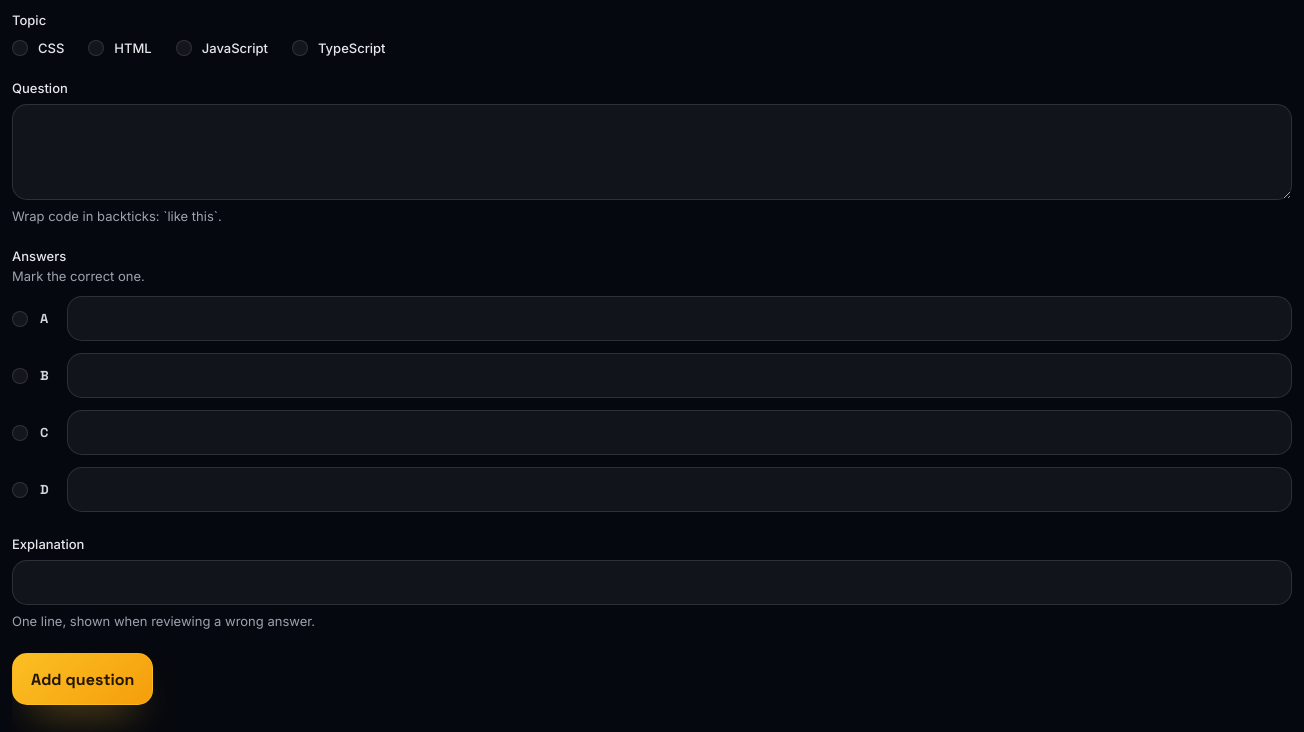
Test: QuestionForm › moves focus to the topic picker when only the topic is missing
What coordinates should you click on to do the following:
click the button "Add question"
I would click on:
 (83, 679)
Its box is left=12, top=653, right=153, bottom=705.
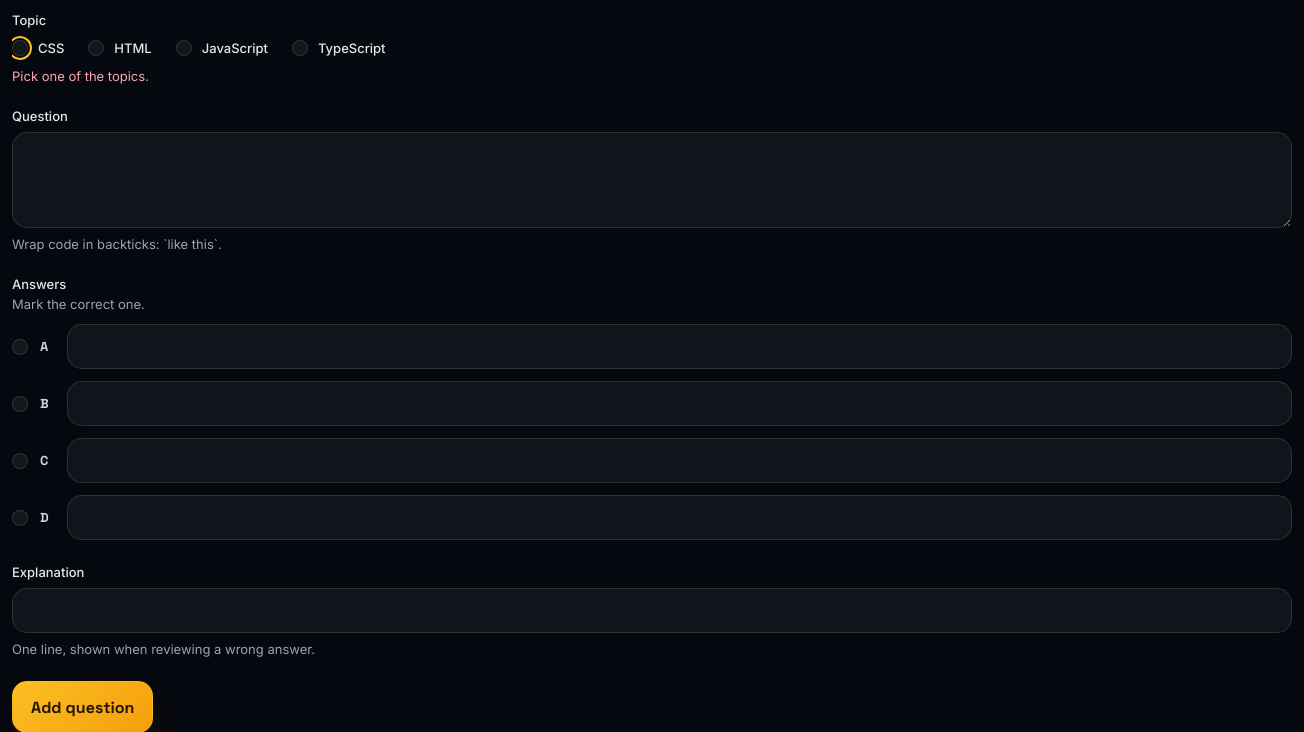
Check: the text "Pick one of the topics." is shown, box left=12, top=68, right=149, bottom=84
